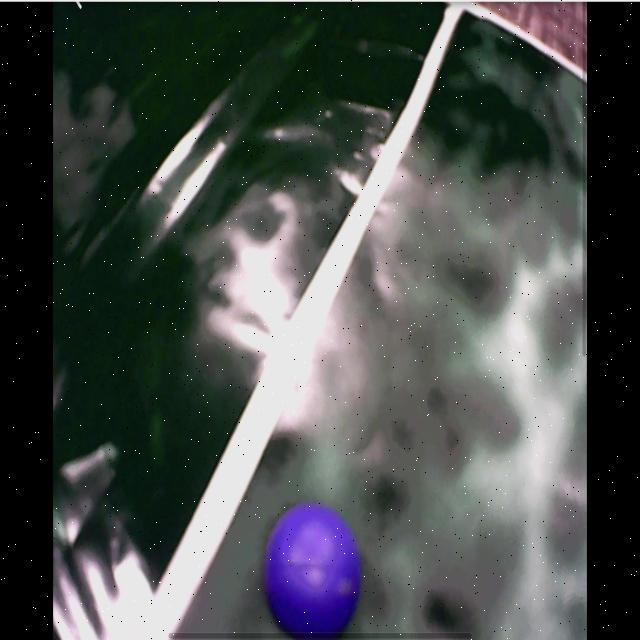ball: (266, 502, 362, 637)
